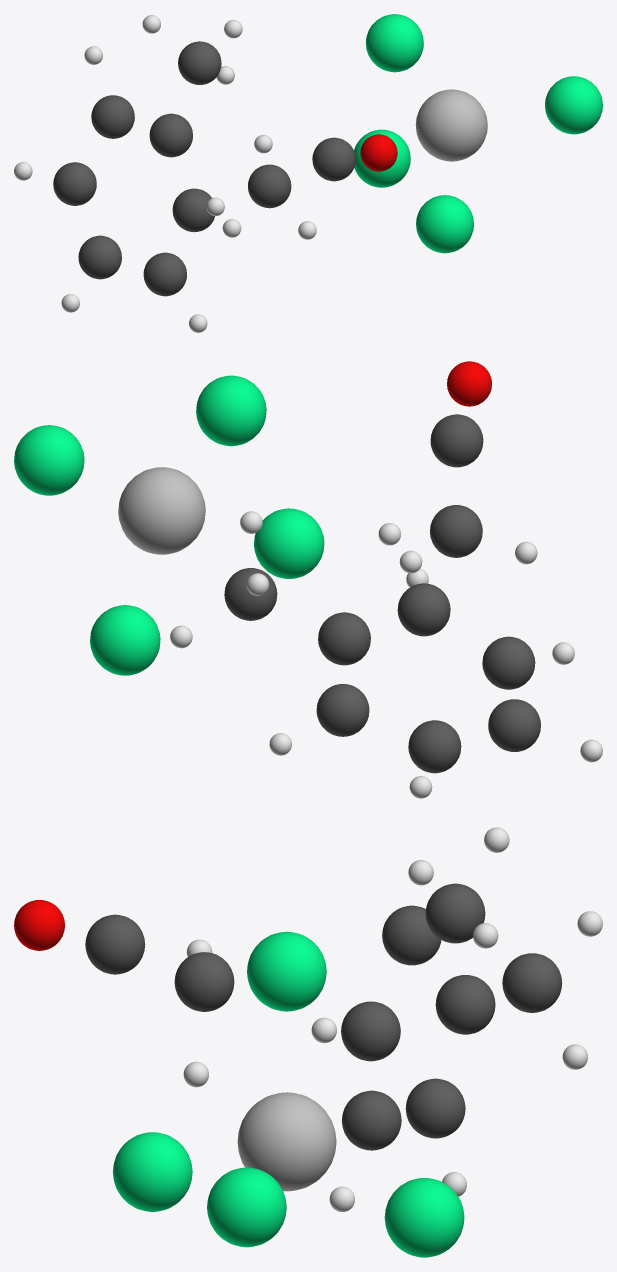
The model's file is Toluene_acylium_AlCl4_TS_tolylethanone.fbx.
3 renders of one model, top to bottom at view 1: azimuth 30°, elevation 25°; view 2: azimuth 150°, elevation 25°; view 3: azimuth 270°, elevation 25°, orthographic. The views are drawn at different scales.
Parts seen in each view (by area): view 1: Al23, Cl22, Cl24, Cl25, Cl26, C12, C01, C06, C05, C17, C02, C04 (+3 smaller); view 2: Al23, Cl24, Cl25, Cl26, Cl22, C04, C12, C05, C02, C06, C03, C01 (+3 smaller); view 3: Al23, Cl25, Cl24, Cl26, Cl22, C01, C03, C02, C12, C04, C13, C17 (+3 smaller).
Part boxes in pixels (<box>): Al23: <box>415,89,487,161</box>; Cl22: <box>416,195,473,253</box>; Cl24: <box>365,14,423,72</box>; Cl25: <box>545,76,602,134</box>; Cl26: <box>354,129,410,187</box>; C12: <box>312,137,355,181</box>; C01: <box>78,235,121,279</box>; C06: <box>53,162,96,205</box>; C05: <box>91,95,134,138</box>; C17: <box>248,164,291,208</box>; C02: <box>143,252,186,296</box>; C04: <box>149,113,192,157</box>; Al23: <box>118,467,205,554</box>; Cl24: <box>196,375,266,446</box>; Cl25: <box>14,425,84,495</box>; Cl26: <box>90,605,160,675</box>; Cl22: <box>254,508,324,578</box>; C04: <box>318,612,370,665</box>; C12: <box>430,414,483,467</box>; C05: <box>397,583,450,636</box>; C02: <box>408,720,461,773</box>; C06: <box>482,636,535,689</box>; C03: <box>316,684,369,736</box>; C01: <box>488,699,540,751</box>; Al23: <box>237,1092,336,1191</box>; Cl25: <box>207,1167,286,1247</box>; Cl24: <box>247,931,326,1011</box>; Cl26: <box>384,1178,464,1257</box>; Cl22: <box>113,1132,192,1211</box>; C01: <box>341,1001,400,1061</box>; C03: <box>405,1078,465,1138</box>; C02: <box>341,1090,401,1150</box>; C12: <box>85,914,145,974</box>; C04: <box>435,975,495,1034</box>; C13: <box>502,953,562,1012</box>; C17: <box>174,952,234,1011</box>.
Bounding box in the file's own units: 1032 × 544 × 738.
